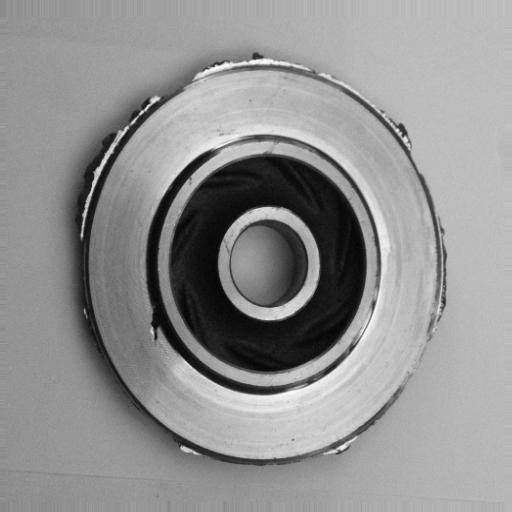casting_with_burr: (68, 50, 449, 467)
crack: (139, 300, 174, 353)
scratch: (347, 277, 383, 354), (203, 127, 265, 160)
